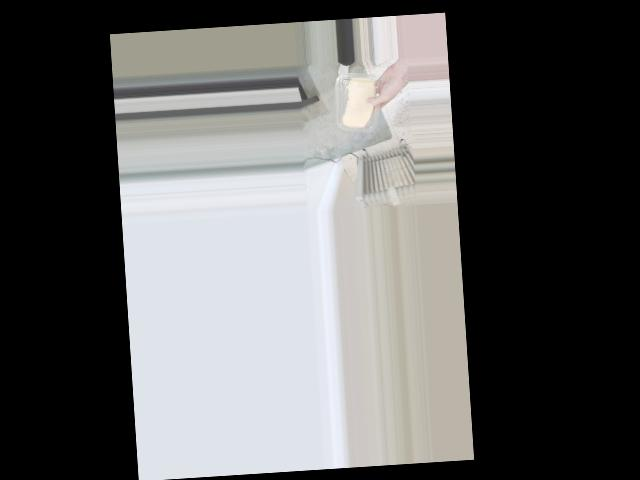cheese: (334, 72, 383, 135)
